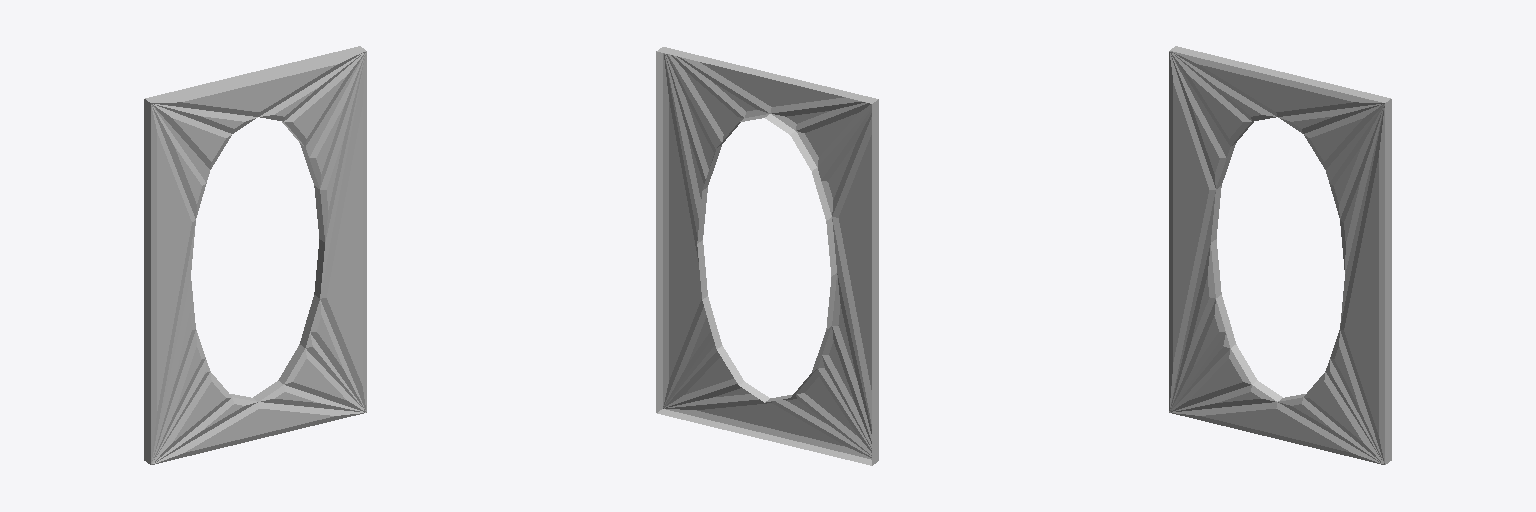
The model's file is painting_frame_4.obj.
3 renders of one model, left to right at view 1: azimuth 30°, elevation 25°; view 2: azimuth 150°, elevation 25°; view 3: azimuth 330°, elevation 25°, orthographic.
Parts seen in each view (by area): view 1: pPlane7; view 2: pPlane7; view 3: pPlane7.
Boxes of the visible parts, box(x1,y1,x2,y2) form: pPlane7: box(144, 46, 366, 464); pPlane7: box(656, 47, 878, 465); pPlane7: box(1169, 46, 1391, 464).
Bounding box in the file's own units: 14.76 × 23.68 × 0.9319.